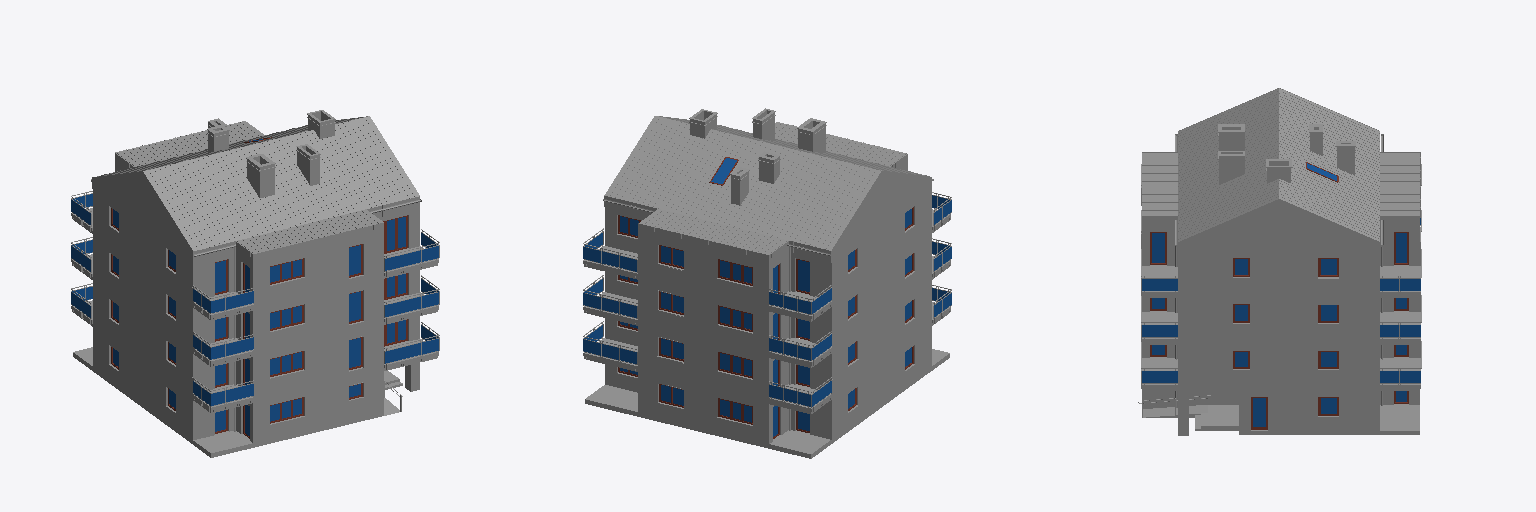
Rendered from building.obj.
3 views of the same model, side by side, from view 1: azimuth 30°, elevation 25°; view 2: azimuth 150°, elevation 25°; view 3: azimuth 270°, elevation 25° (orthographic).
Visible parts, largest first — view 1: building_04_plaster_white, building_04_metal_grey, building_04_foundation_grey_brick, building_04_window_glass, building_04_plaster_grey, building_04_wood_brown, building_04_curb, building_04_plate_white, building_04_wood_balls_brown; view 2: building_04_plaster_white, building_04_metal_grey, building_04_foundation_grey_brick, building_04_window_glass, building_04_plaster_grey, building_04_wood_brown, building_04_wood_balls_brown, building_04_curb, building_04_plate_white, building_04_parapet; view 3: building_04_plaster_white, building_04_metal_grey, building_04_foundation_grey_brick, building_04_window_glass, building_04_plaster_grey, building_04_plate_white, building_04_curb, building_04_wood_brown, building_04_wood_balls_brown.
Part boxes in pixels (bbox=[...]): building_04_plaster_white: bbox=[72, 158, 437, 412]; building_04_metal_grey: bbox=[71, 116, 439, 431]; building_04_foundation_grey_brick: bbox=[73, 321, 419, 457]; building_04_window_glass: bbox=[71, 139, 438, 435]; building_04_plaster_grey: bbox=[207, 110, 335, 197]; building_04_wood_brown: bbox=[111, 137, 407, 438]; building_04_curb: bbox=[73, 347, 402, 452]; building_04_plate_white: bbox=[72, 208, 437, 406]; building_04_wood_balls_brown: bbox=[350, 276, 363, 384]; building_04_plaster_white: bbox=[584, 159, 949, 413]; building_04_metal_grey: bbox=[583, 116, 951, 430]; building_04_foundation_grey_brick: bbox=[585, 320, 949, 458]; building_04_window_glass: bbox=[583, 158, 951, 436]; building_04_plaster_grey: bbox=[689, 108, 826, 205]; building_04_wood_brown: bbox=[618, 157, 913, 438]; building_04_wood_balls_brown: bbox=[658, 265, 682, 388]; building_04_curb: bbox=[586, 349, 949, 453]; building_04_plate_white: bbox=[585, 210, 949, 407]; building_04_parapet: bbox=[617, 225, 915, 426]; building_04_plaster_white: bbox=[1142, 205, 1419, 390]; building_04_metal_grey: bbox=[1138, 88, 1421, 417]; building_04_foundation_grey_brick: bbox=[1142, 385, 1419, 435]; building_04_window_glass: bbox=[1142, 163, 1420, 426]; building_04_plaster_grey: bbox=[1218, 124, 1355, 184]; building_04_plate_white: bbox=[1142, 265, 1419, 384]; building_04_curb: bbox=[1143, 404, 1419, 430]; building_04_wood_brown: bbox=[1150, 162, 1408, 429]; building_04_wood_balls_brown: bbox=[1319, 279, 1337, 396].
Bounding box in the file's own units: 6.12 × 6.34 × 6.55.